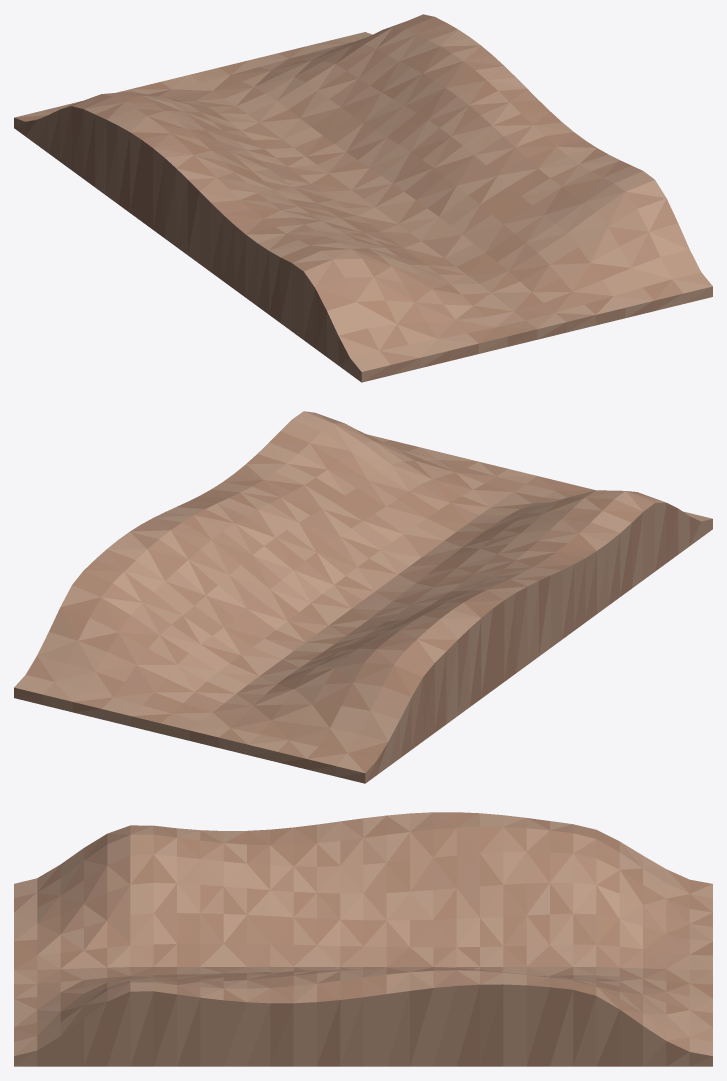
The model's file is 10_v_notch.glb.
3 renders of one model, top to bottom at view 1: azimuth 30°, elevation 25°; view 2: azimuth 150°, elevation 25°; view 3: azimuth 270°, elevation 25°, orthographic.
Parts seen in each view (by area): view 1: ObstacleMesh; view 2: ObstacleMesh; view 3: ObstacleMesh.
Part boxes in pixels (x1,y1,x2,y2): ObstacleMesh: (14, 14, 712, 382); ObstacleMesh: (14, 411, 712, 783); ObstacleMesh: (14, 812, 712, 1066).
Size of the model in its own units: 7 by 1.56 by 12.
